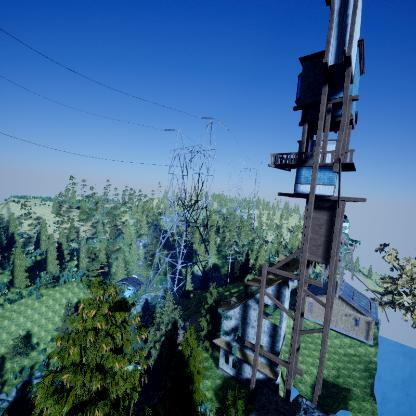tower: (144, 113, 233, 300)
